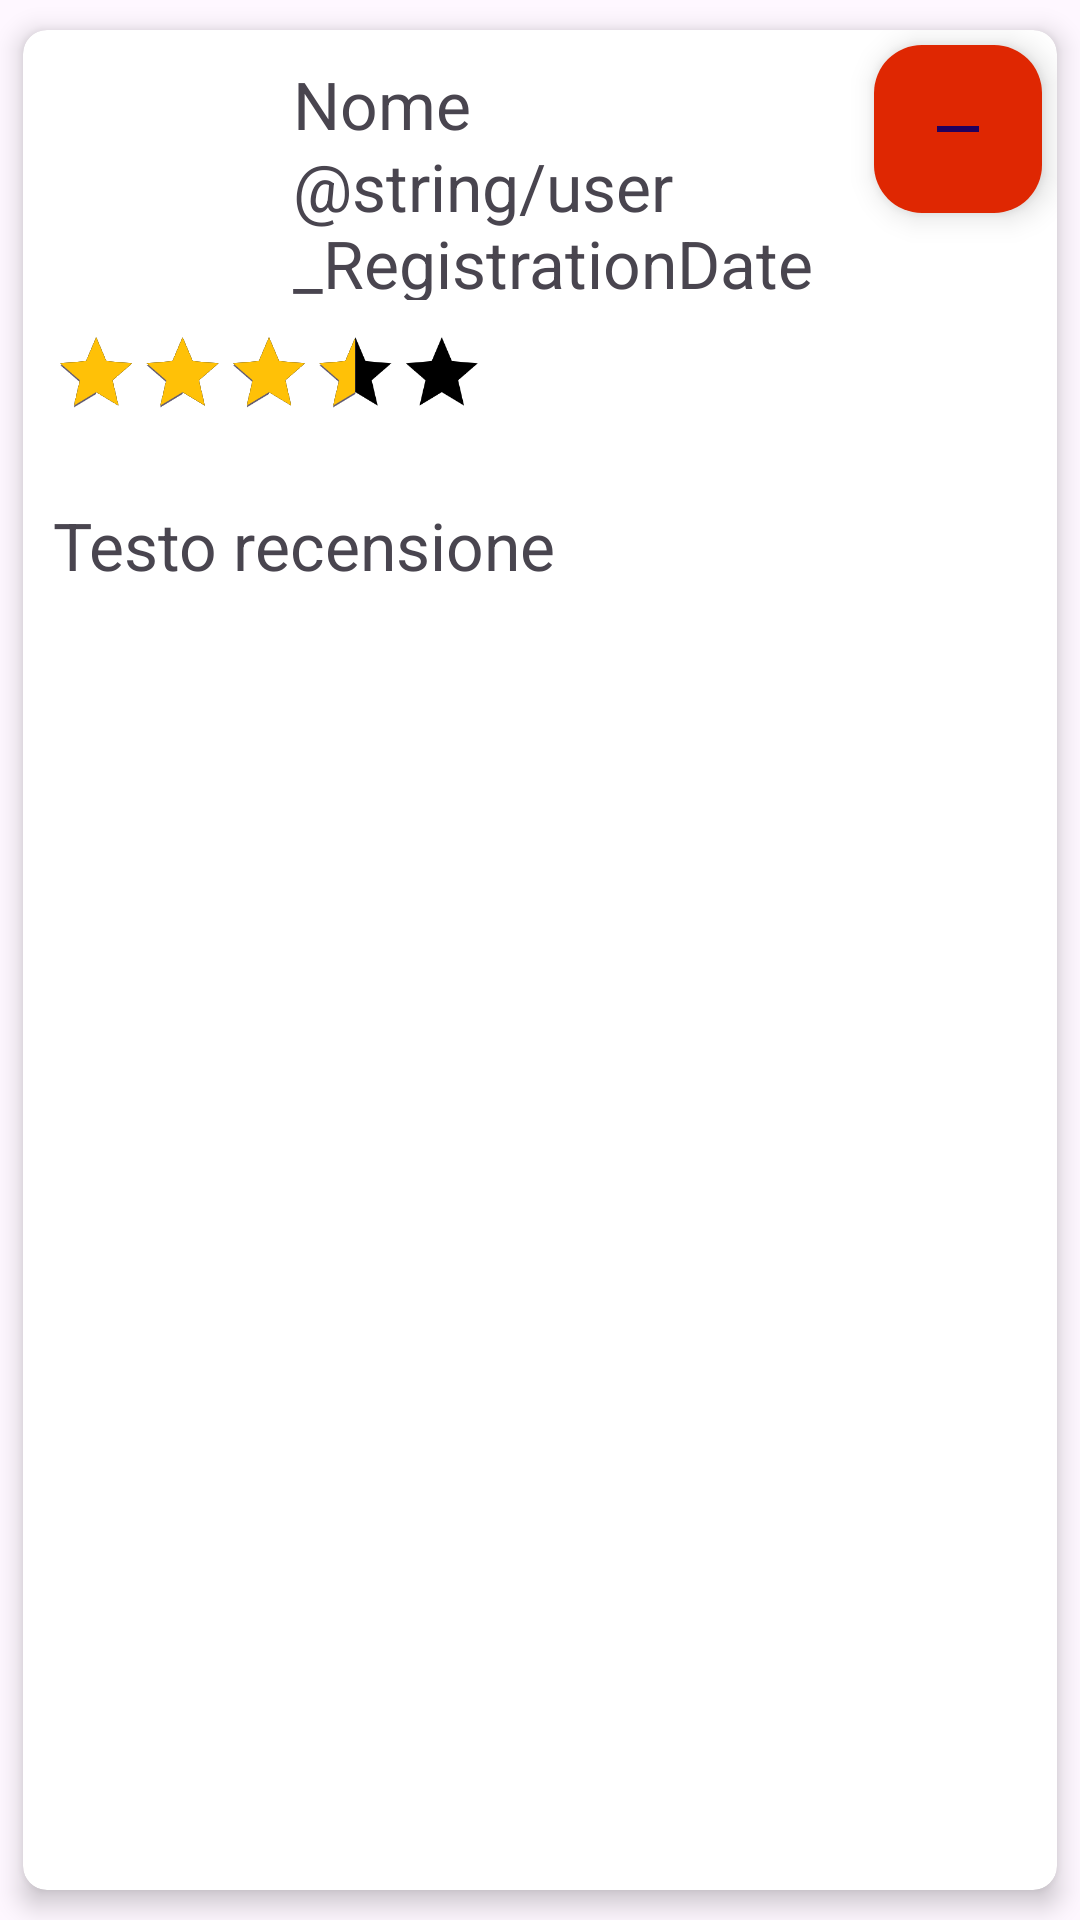

Where to tap for icons on this 1080 x 1920 app screen, as (x=x, y=y):
Rimuovi: (x=958, y=129)
